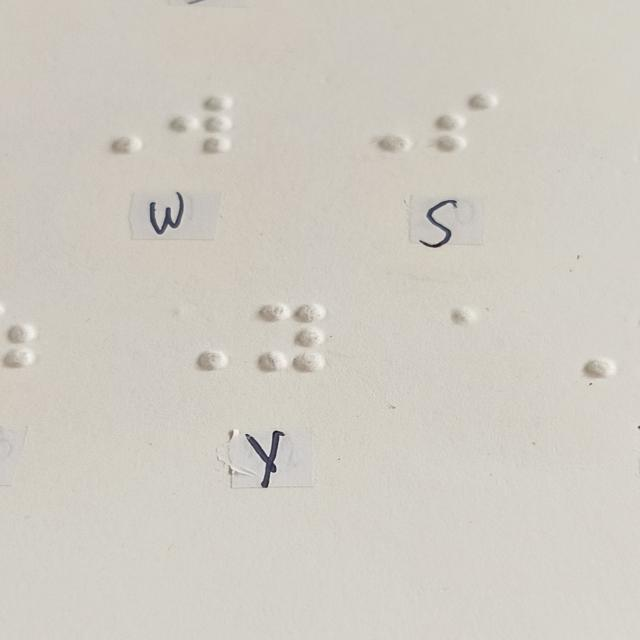S: (434, 91, 497, 152)
W: (168, 94, 232, 156)
Y: (259, 299, 328, 375)
capital: (163, 299, 232, 375), (79, 94, 143, 156), (347, 92, 411, 153)
